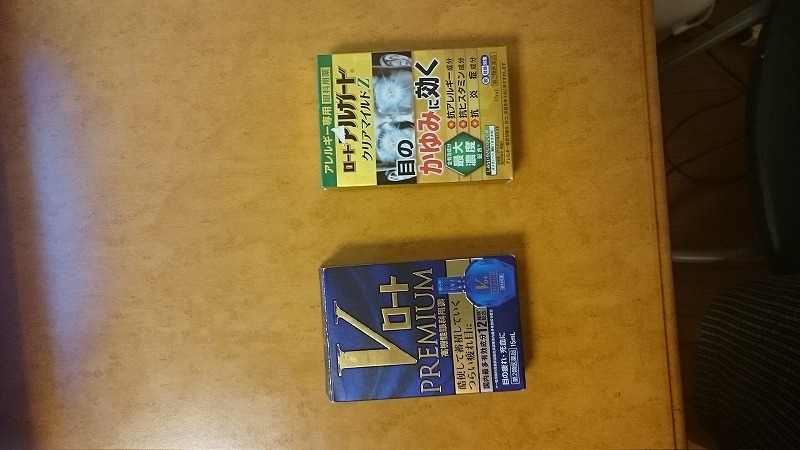C: (311, 42, 521, 193)
D: (311, 248, 532, 402)
